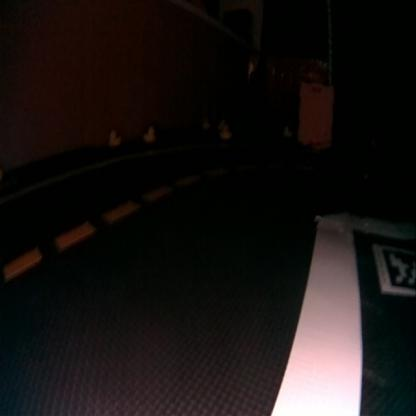Duckie: (142, 123, 155, 142), (107, 130, 119, 144), (219, 127, 231, 140)
QR code: (373, 242, 415, 294)
